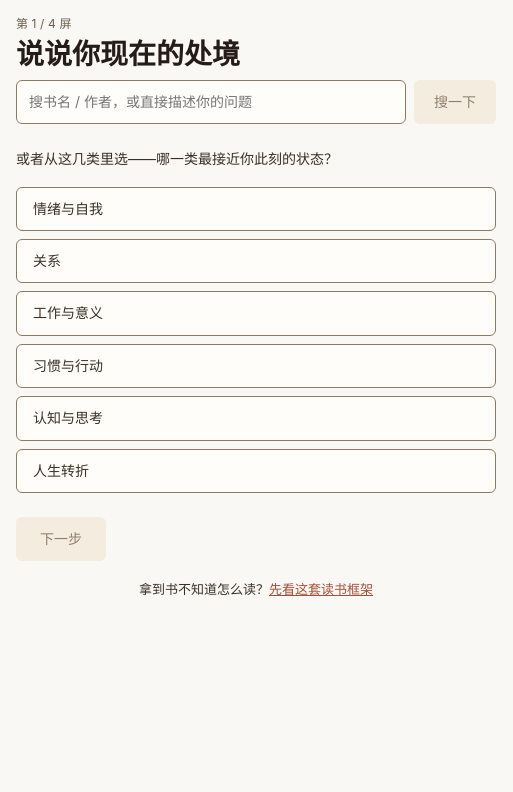
Test case: QuizView 四屏流 › 第 3 屏全部可跳（不选也能下一步）
The width and height of the screenshot is (513, 792).
Click the button "情绪与自我": (68, 208) [16,187,496,231]
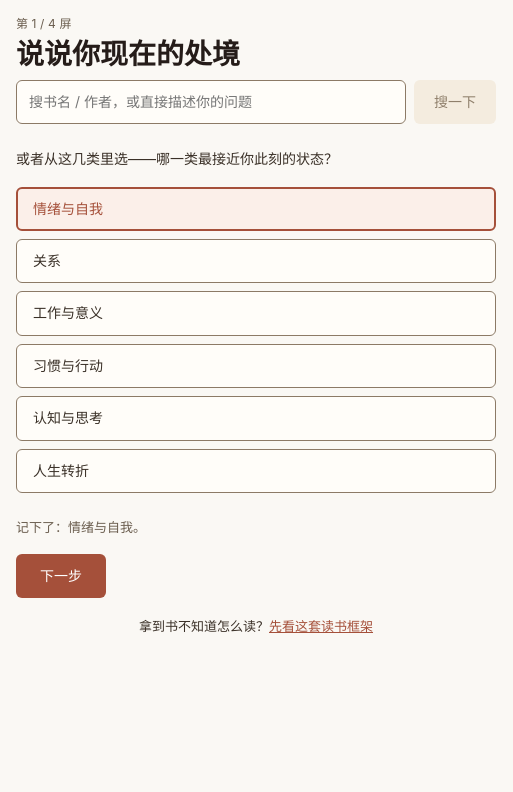
Click the button "下一步": (61, 576) [16,554,106,598]
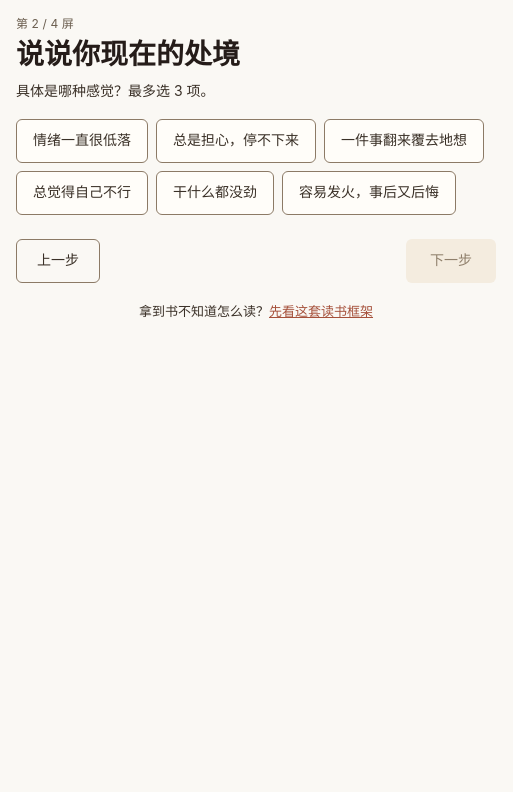
Click the button "情绪一直很低落": (82, 141) [16,119,148,163]
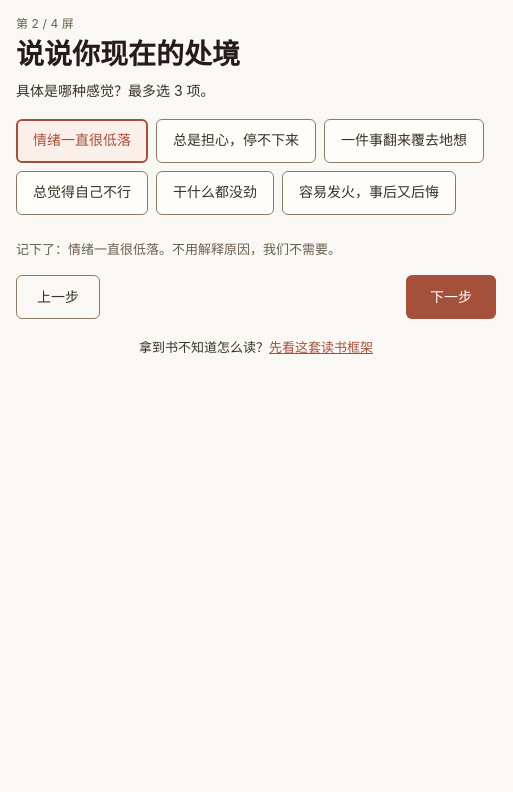
Click the button "下一步": (451, 297) [406,275,496,319]
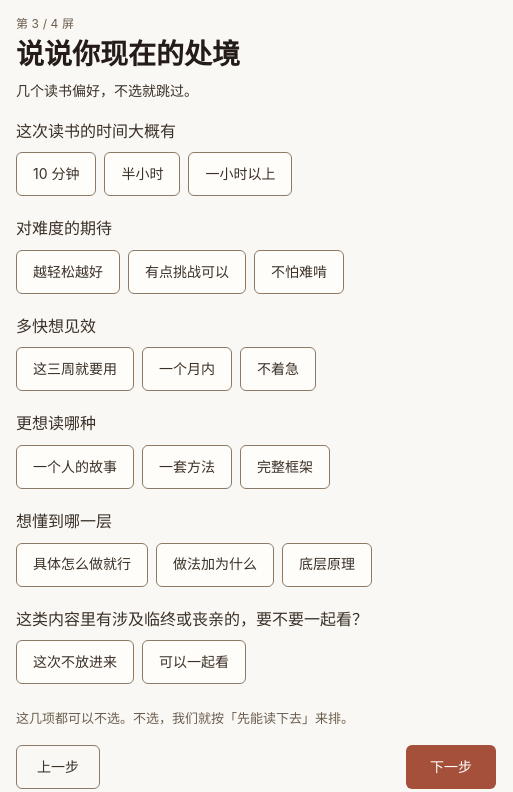
Expected: the text "读书偏好" is shown, [16,82,198,99]
Click the button "下一步": (451, 767) [406,745,496,789]
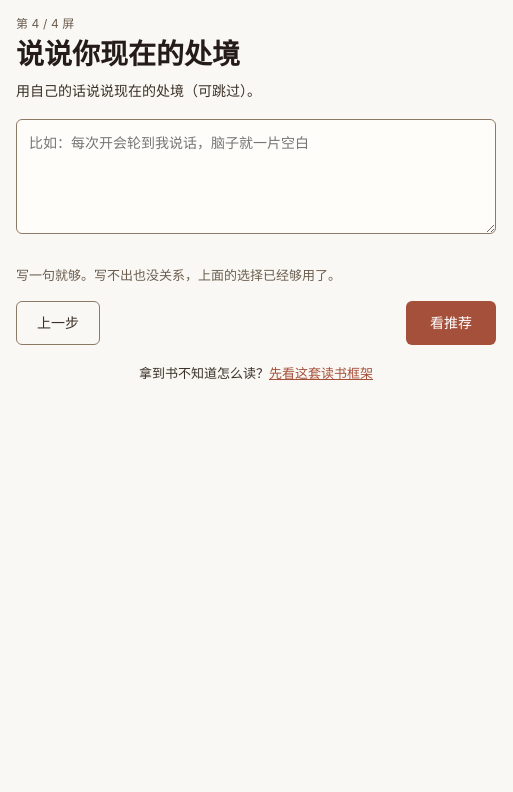
Expected: the text "第 4 / 4 屏" is shown, [16,16,74,31]
